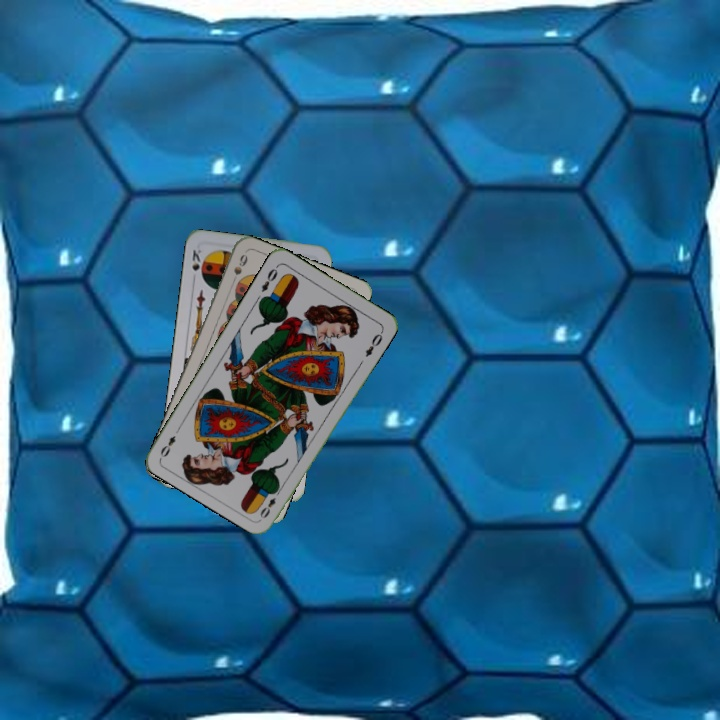EO: (256, 484, 284, 521), (257, 262, 281, 295)
S9: (227, 250, 250, 288)
SK: (188, 245, 206, 279)
